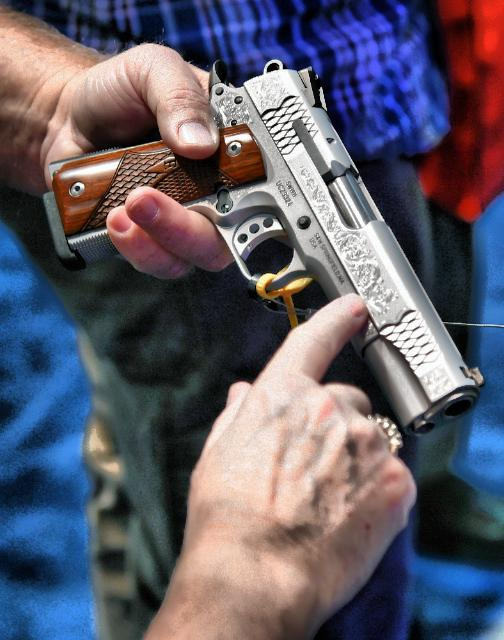pistol: (48, 56, 484, 444)
